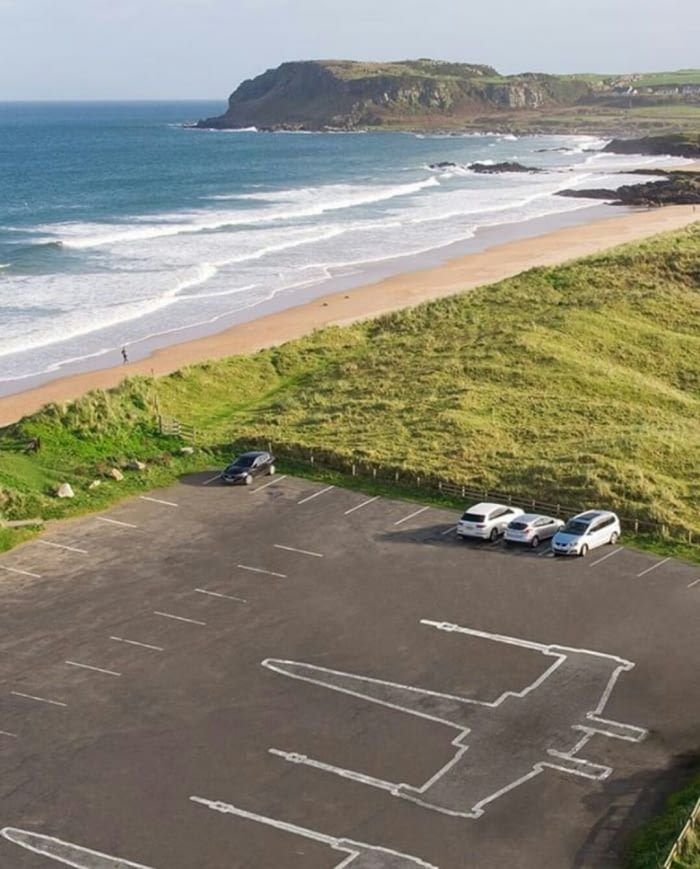empyt_space: (7, 651, 127, 708), (150, 580, 250, 633), (106, 608, 208, 655), (65, 634, 162, 681), (234, 539, 325, 587), (38, 516, 140, 556), (191, 563, 287, 605), (6, 534, 91, 581), (381, 499, 473, 541), (587, 541, 674, 583), (92, 492, 180, 532), (299, 478, 382, 516), (340, 488, 431, 522), (636, 550, 700, 593), (252, 473, 333, 506)
